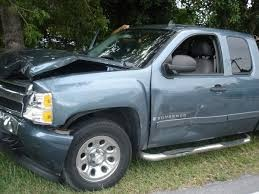Dent: (146, 84, 235, 144)
Smashed: (1, 48, 130, 170)
